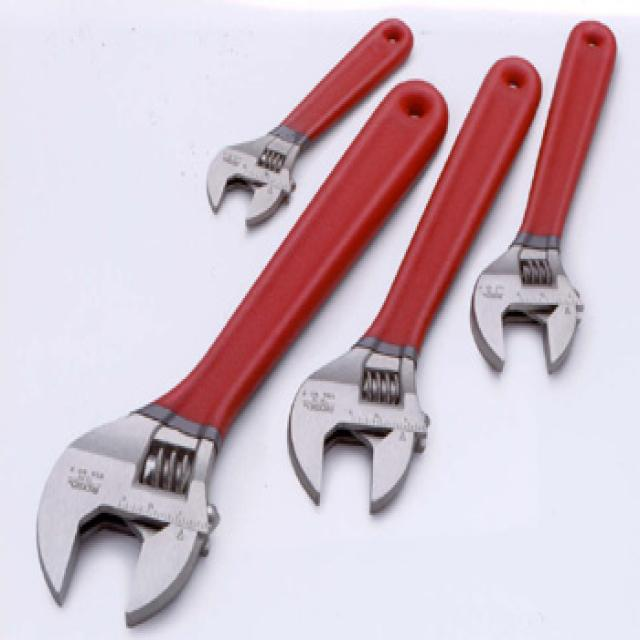wrench: (185, 8, 442, 238), (471, 23, 602, 374), (286, 304, 457, 512)
